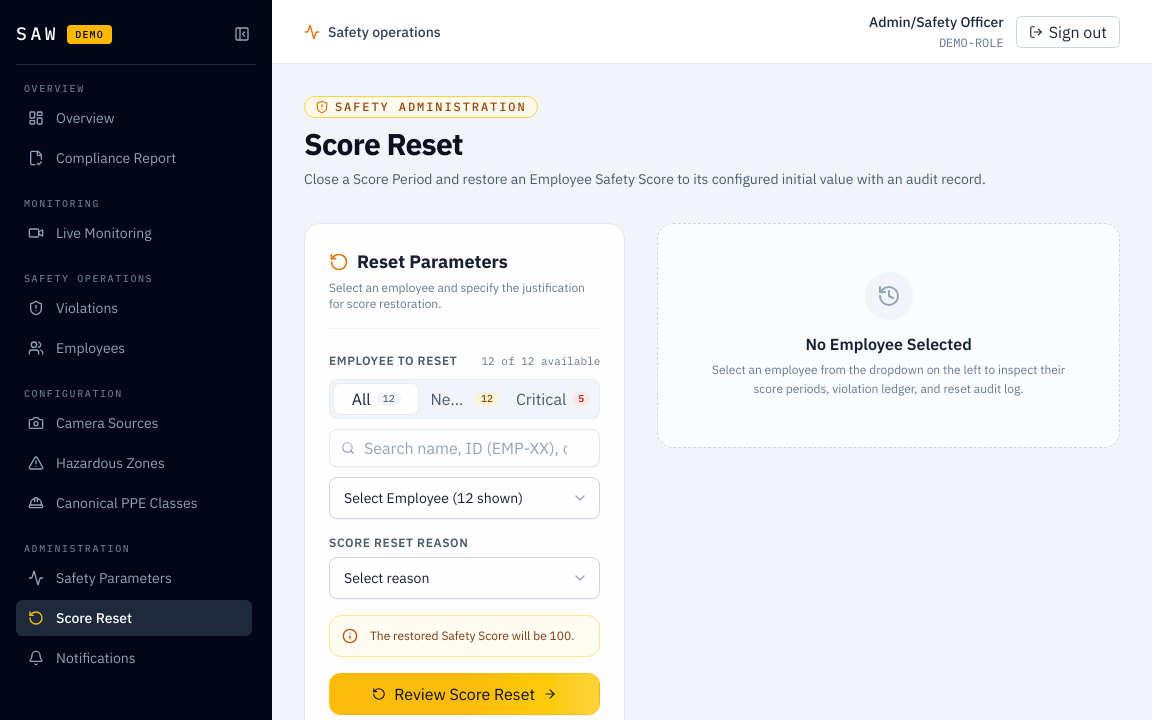
Score Reset › dismisses error toast when dismiss button is clicked
Expected: the heading "Score Reset" is shown, [304,124,463,163]
Step 1. Click the button "Review Score Reset" → (465, 694), box [329,673,600,715]
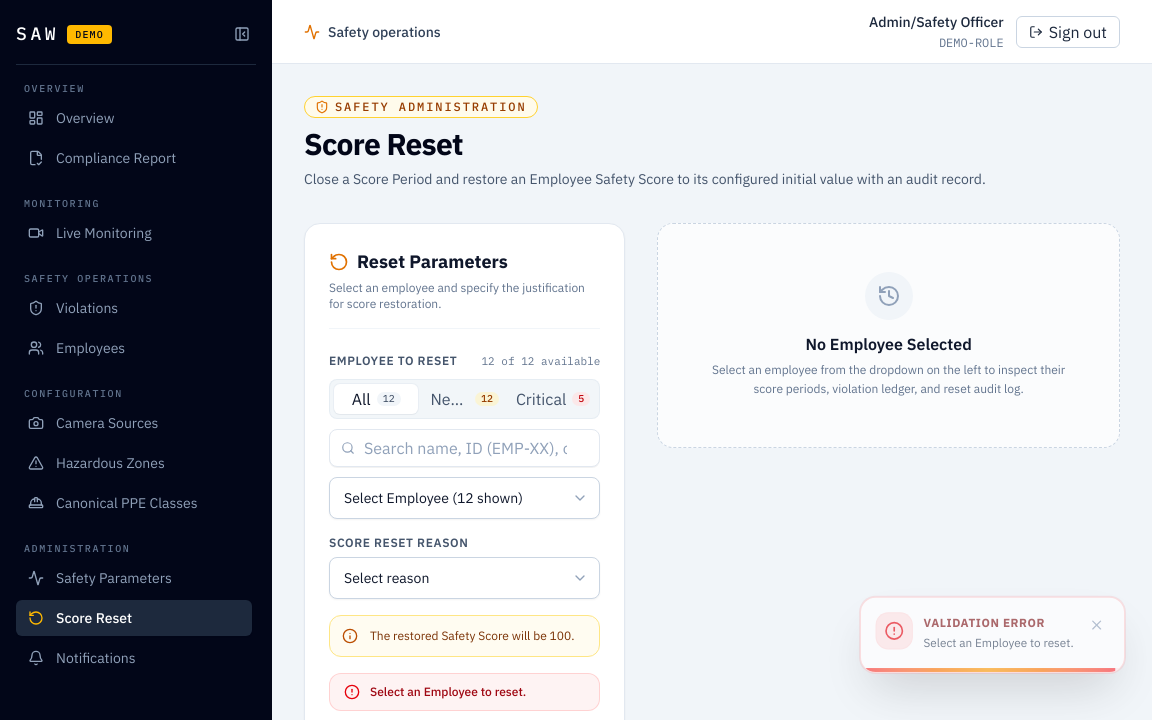
Expected: the message shows "Select an Employee to reset.", [923,634,1073,649]
Step 2. Click the button named "Dismiss error" → (1097, 625), box [1085,613,1108,636]
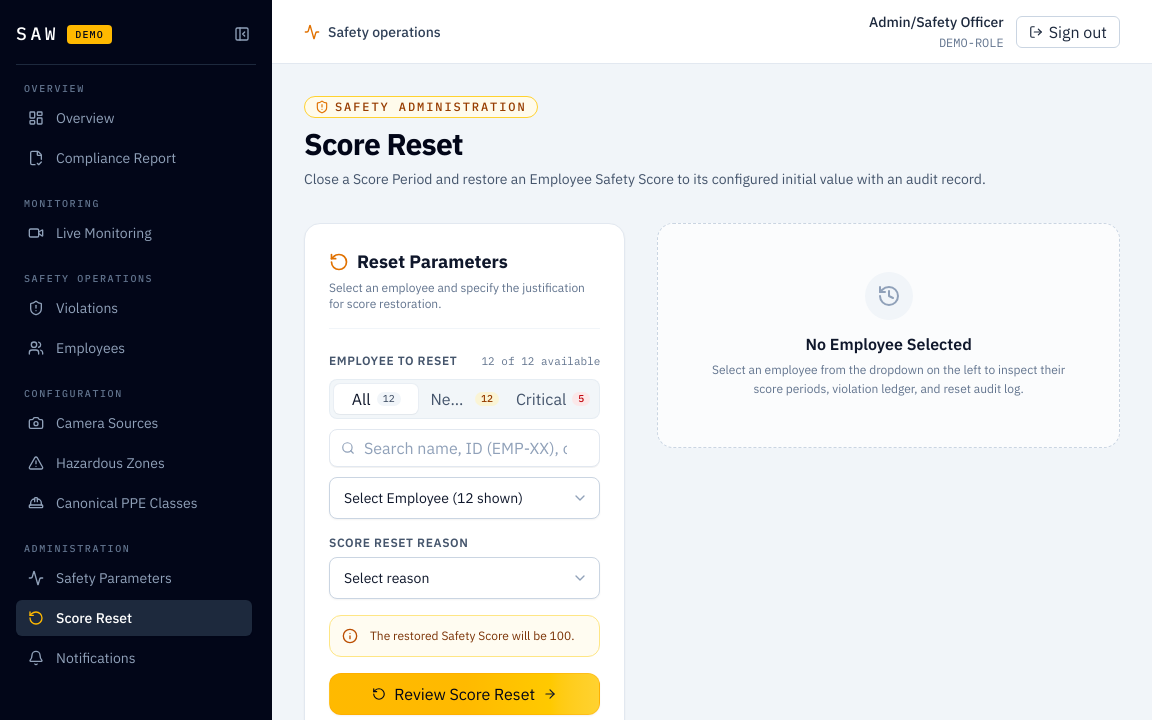
Expected: the message "Validation Error Select an Employee to reset." is gone
